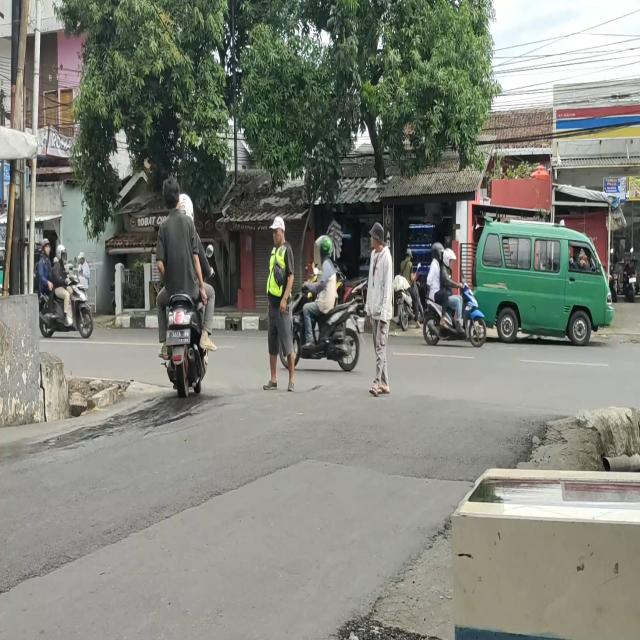helmet: (314, 234, 334, 262), (182, 193, 195, 220), (40, 238, 54, 262), (445, 249, 457, 276), (433, 239, 444, 264), (56, 243, 67, 265)
no-helmet: (161, 178, 180, 212)
